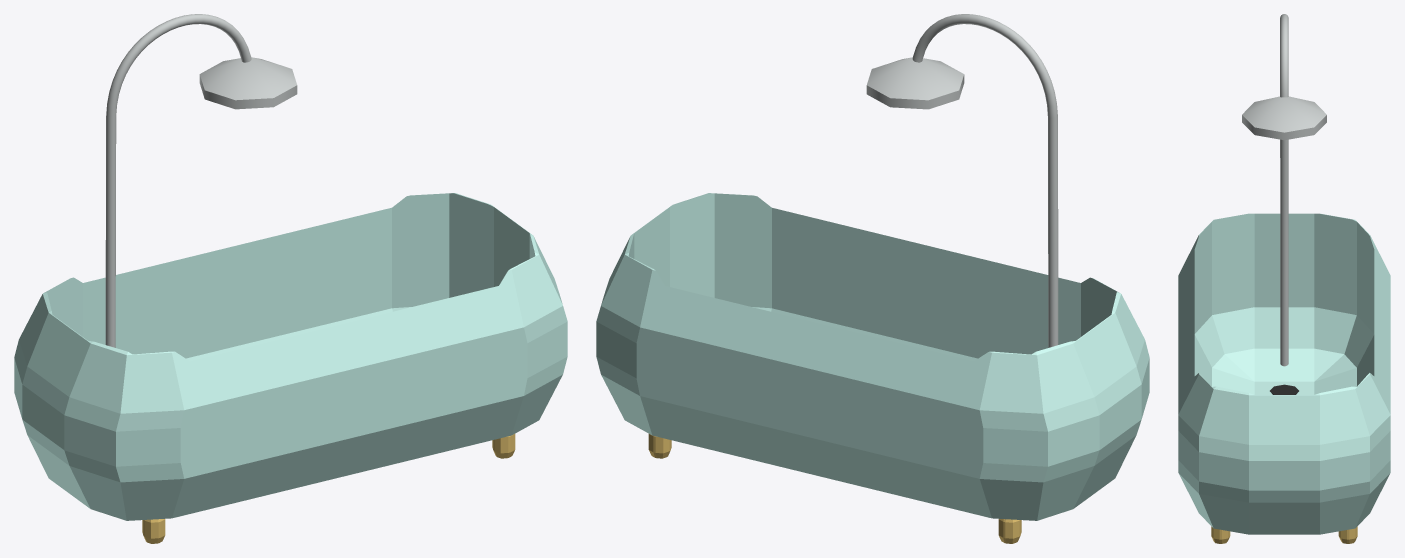
File: BathtubShower_v01.fbx
3 views of the same model, side by side, from view 1: azimuth 30°, elevation 25°; view 2: azimuth 150°, elevation 25°; view 3: azimuth 270°, elevation 25° (orthographic). The views are drawn at different scales.
Parts seen in each view (by area): view 1: tub_base_1_tub_base, Sweep_NURBS, showerhead; view 2: tub_base_1_tub_base, Sweep_NURBS, showerhead; view 3: tub_base_1_tub_base, showerhead, Sweep_NURBS.
Boxes of the visible parts, x1=… form: tub_base_1_tub_base: x1=14, y1=193, x2=567, y2=520; Sweep_NURBS: x1=105, y1=14, x2=251, y2=347; showerhead: x1=199, y1=57, x2=297, y2=109; tub_base_1_tub_base: x1=596, y1=193, x2=1149, y2=520; Sweep_NURBS: x1=912, y1=14, x2=1058, y2=347; showerhead: x1=866, y1=57, x2=964, y2=109; tub_base_1_tub_base: x1=1178, y1=213, x2=1390, y2=534; showerhead: x1=1242, y1=96, x2=1326, y2=140; Sweep_NURBS: x1=1280, y1=14, x2=1288, y2=366.
Size of the model in its own units: 227 by 211 by 99.99.
